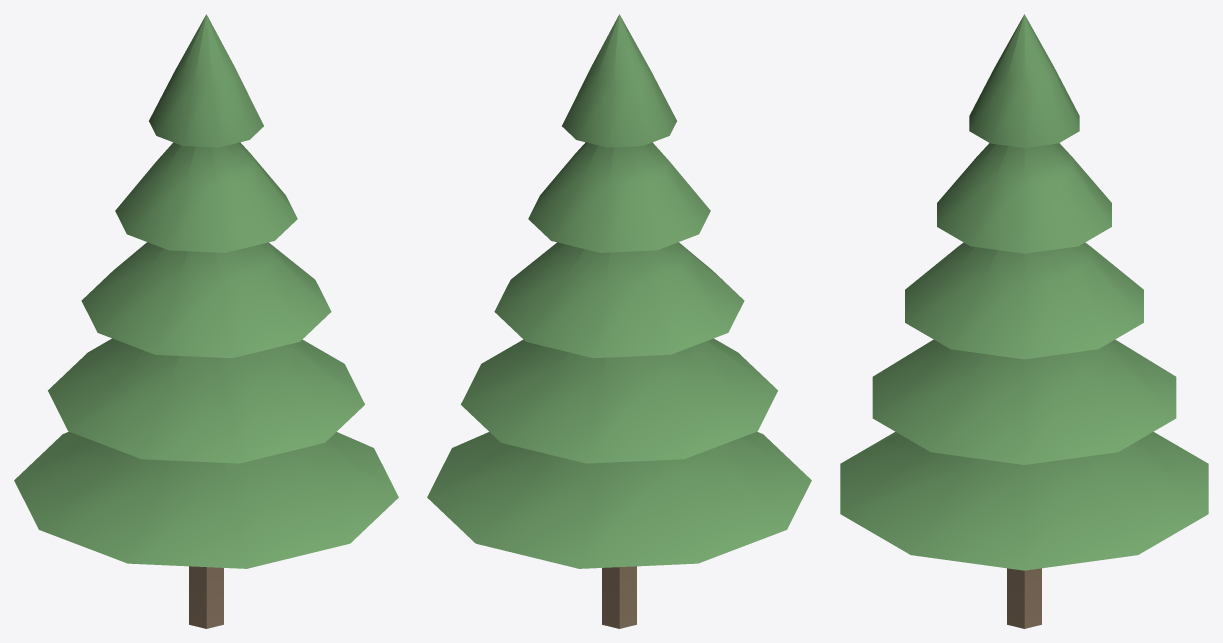
File: pine.glb
The picture shows the model from 3 angles, left to right: view 1: azimuth 30°, elevation 25°; view 2: azimuth 150°, elevation 25°; view 3: azimuth 270°, elevation 25°; orthographic projection.
Visible parts, largest first — view 1: boat_leafC, boat_bark2; view 2: boat_leafC, boat_bark2; view 3: boat_leafC, boat_bark2.
Boxes of the visible parts, box(x1,y1,x2,y2) form: boat_leafC: box(14, 14, 398, 568); boat_bark2: box(189, 566, 223, 628); boat_leafC: box(427, 14, 811, 568); boat_bark2: box(602, 566, 636, 628); boat_leafC: box(840, 14, 1208, 570); boat_bark2: box(1007, 568, 1041, 628).
Bounding box in the file's own units: 4.8 × 8.3 × 4.57.
